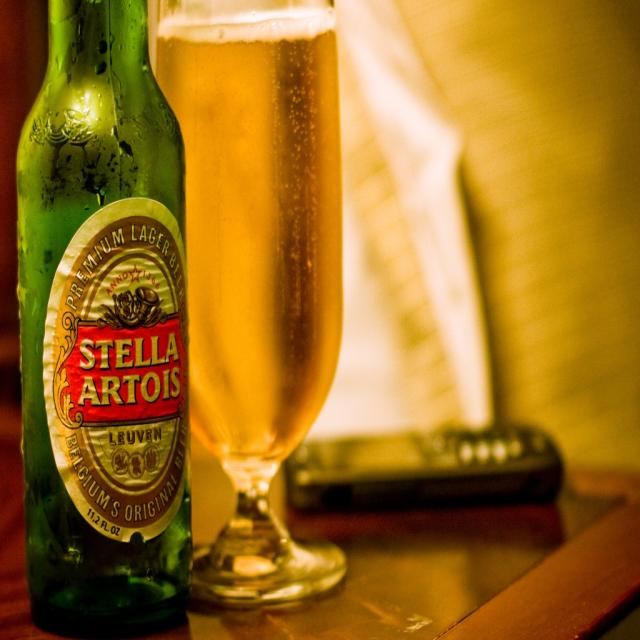stellaartois: (53, 220, 191, 530)
